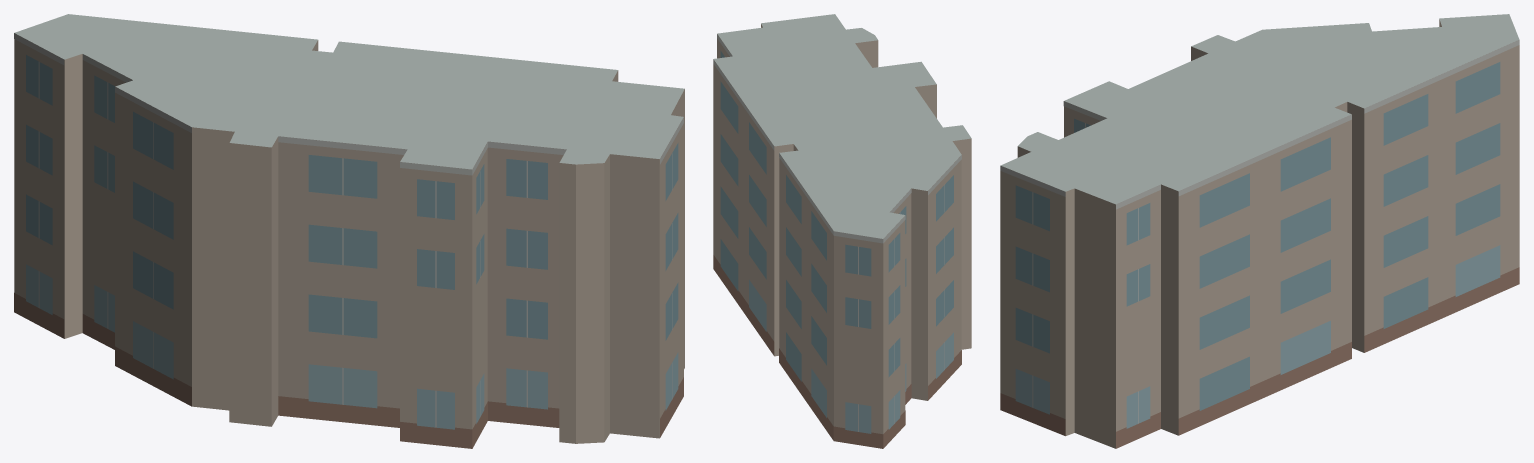
File: survey-upis-32527053.glb
3 views of the same model, side by side, from view 1: azimuth 30°, elevation 25°; view 2: azimuth 150°, elevation 25°; view 3: azimuth 270°, elevation 25° (orthographic). The views are drawn at different scales.
Visible parts, largest first — view 1: survey-upis-32527053.tmp; view 2: survey-upis-32527053.tmp; view 3: survey-upis-32527053.tmp.
Boxes of the visible parts, x1,y1,x2,y2 form: survey-upis-32527053.tmp: (14, 14, 684, 448); survey-upis-32527053.tmp: (713, 14, 971, 448); survey-upis-32527053.tmp: (1000, 14, 1519, 448).
Size of the model in its own units: 18.89 by 11.3 by 21.76.
